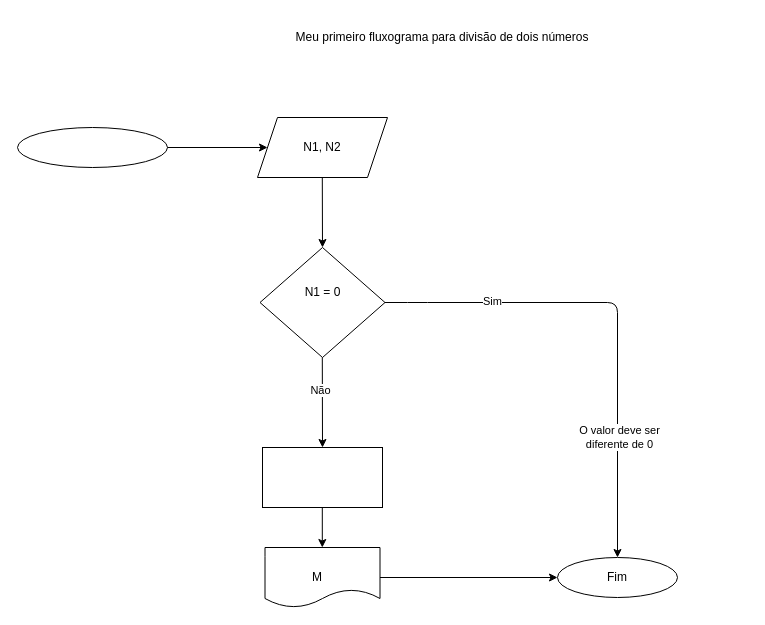
This 765x625 diagram has some shape labels left out. Each missing label, with the centre of its shape:
Início: the point at 92,147
M = N1 / N2: the point at 322,477
